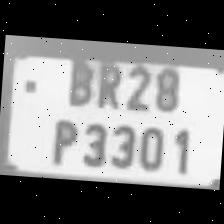0: (132, 119, 166, 172)
1: (164, 120, 196, 174)
2: (120, 58, 154, 112)
3: (74, 114, 110, 170), (103, 118, 136, 172)
8: (150, 60, 182, 113)
B: (60, 48, 95, 107)
P: (44, 111, 80, 168)
R: (90, 52, 124, 108)
